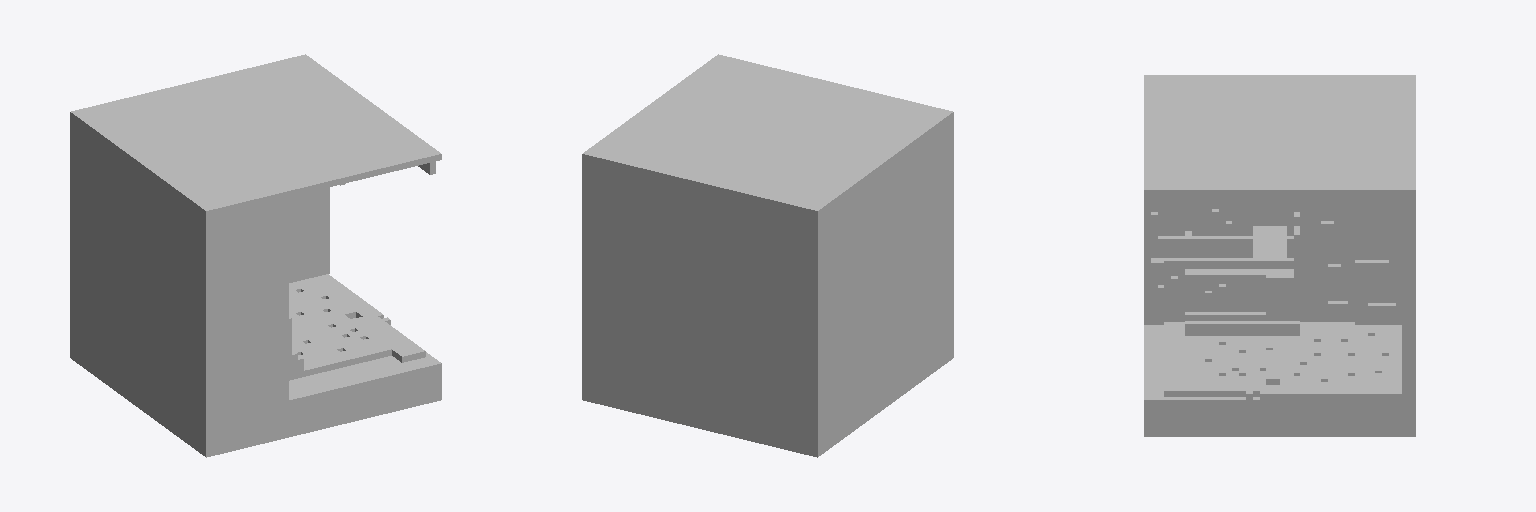
The model's file is hub.obj.
The picture shows the model from 3 angles: view 1: azimuth 30°, elevation 25°; view 2: azimuth 150°, elevation 25°; view 3: azimuth 270°, elevation 25°; orthographic projection.
Visible parts, largest first — view 1: object 1; view 2: object 1; view 3: object 1.
Boxes of the visible parts, box(x1,y1,x2,y2) form: object 1: box(70, 54, 441, 457); object 1: box(582, 54, 953, 457); object 1: box(1144, 75, 1415, 436).
Size of the model in its own units: 4 by 4 by 4.